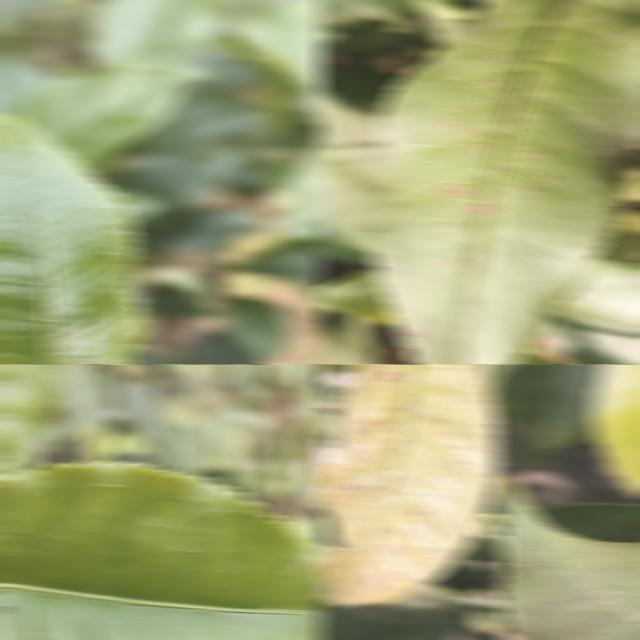Leaf: (366, 0, 640, 364), (0, 461, 324, 640), (316, 364, 499, 605), (0, 115, 142, 364), (496, 478, 640, 640), (15, 62, 204, 175), (316, 89, 395, 263), (486, 364, 604, 466), (229, 0, 324, 123), (549, 257, 640, 364), (88, 0, 223, 67), (332, 583, 501, 621), (316, 600, 456, 640), (54, 365, 124, 440), (316, 268, 397, 324), (219, 297, 290, 358), (115, 378, 167, 441), (166, 332, 262, 364), (288, 515, 324, 557), (267, 364, 304, 391), (316, 570, 336, 603)
